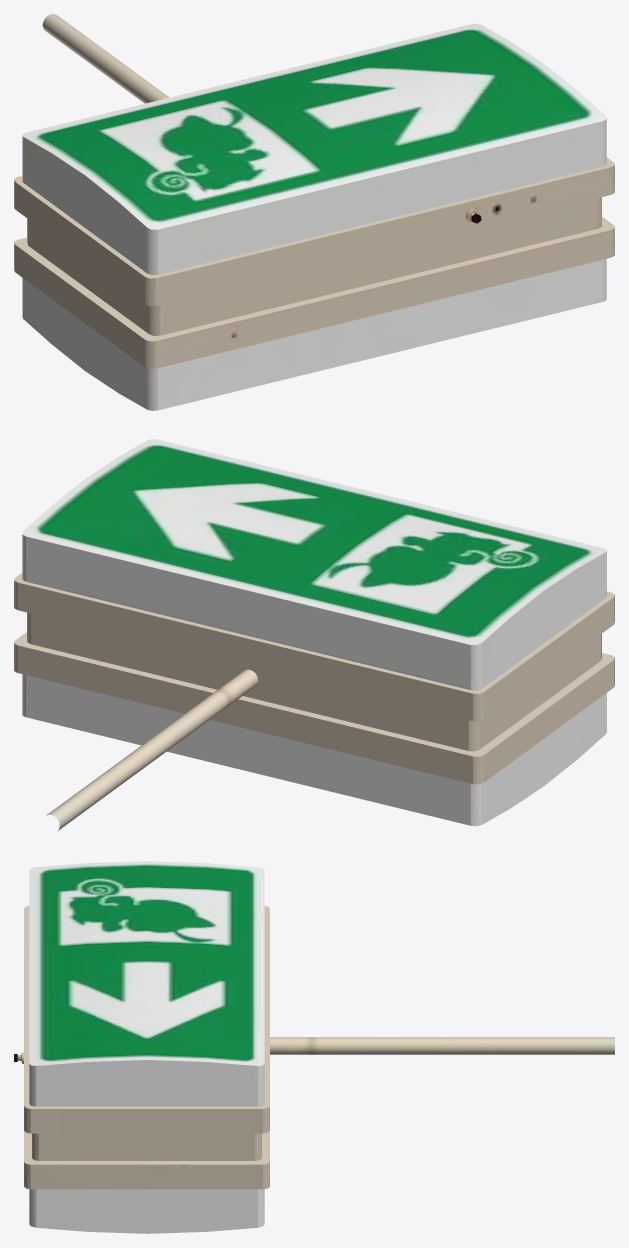
The model's file is Exit_Sign_TwoWay_767cb1.glb.
3 views of the same model, one above another, from view 1: azimuth 30°, elevation 25°; view 2: azimuth 150°, elevation 25°; view 3: azimuth 270°, elevation 25° (orthographic). The views are drawn at different scales.
Size of the model in its own units: 0.4091 by 0.1632 by 0.5109.
1 material, 1 textured.
